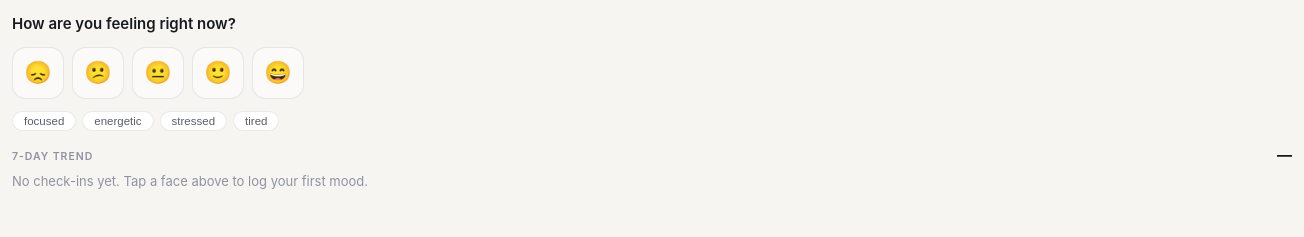
Test: MoodWidget › undoes the just-logged check-in
This screenshot has width=1304, height=237.
Expected: the text "No check-ins yet. Tap a face above to log your first mood." is shown, [12,172,368,188]
Click the button named "Low" at (98, 73), box [72,47,124,99]
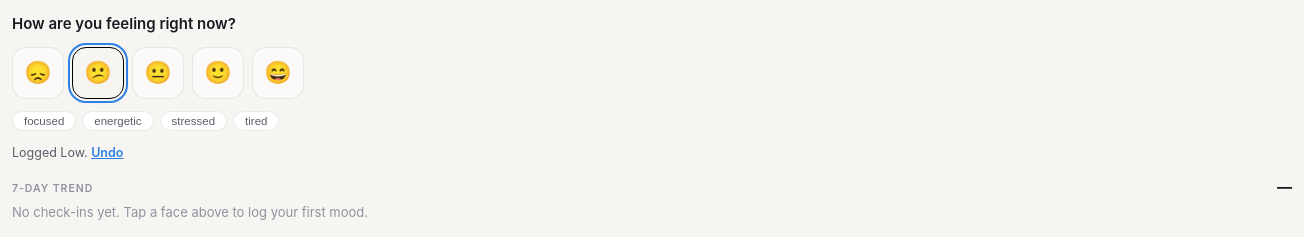
Click the button "Undo" at (107, 153), box [91,143,123,163]
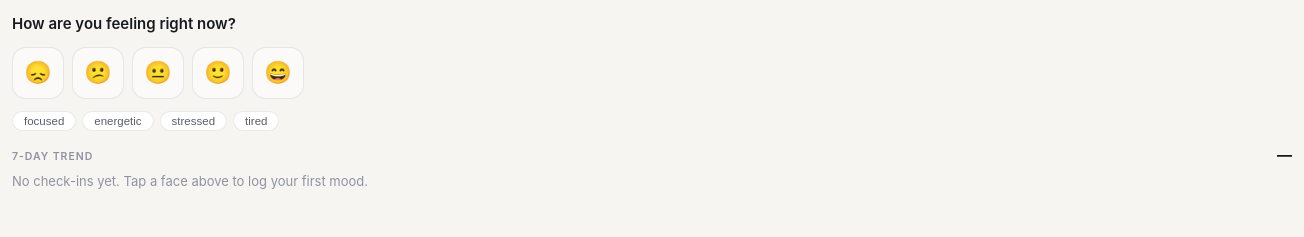
Result: the text "Logged Low" is gone
